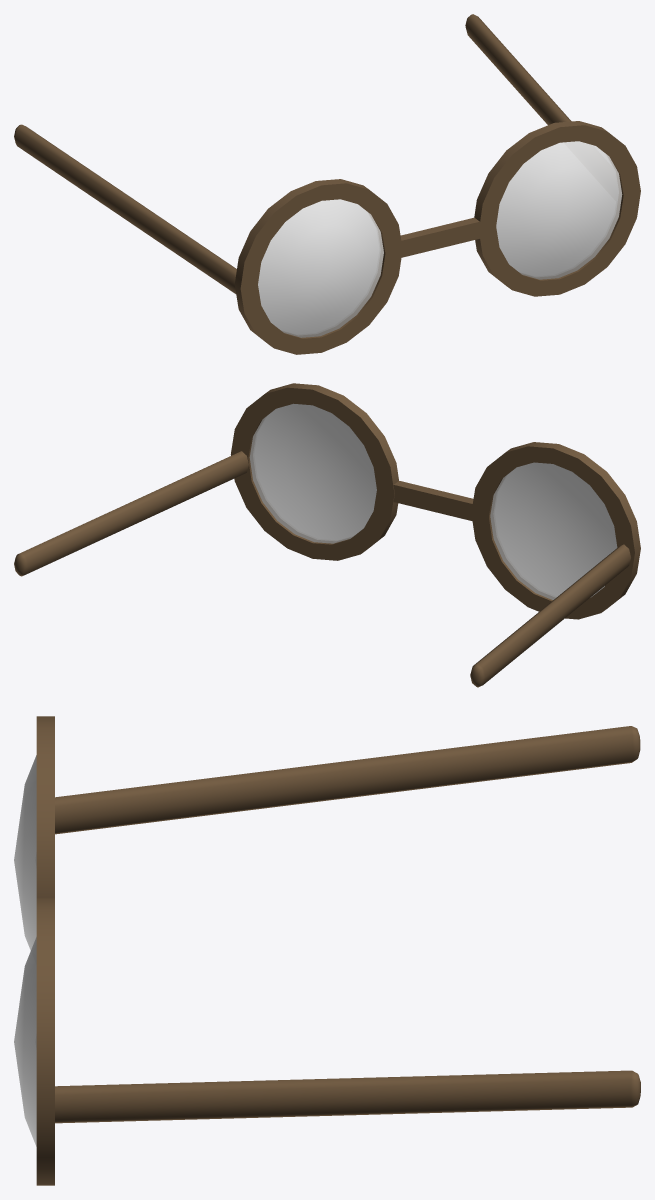
Rendered from Anteater_Glasses_B.glb.
3 views of the same model, one above another, from view 1: azimuth 30°, elevation 25°; view 2: azimuth 150°, elevation 25°; view 3: azimuth 270°, elevation 25° (orthographic). The views are drawn at different scales.
Visible parts, largest first — view 1: Anteater Glasses B; view 2: Anteater Glasses B; view 3: Anteater Glasses B.
Part boxes in pixels (<box>): Anteater Glasses B: <box>14,14,640,354</box>; Anteater Glasses B: <box>14,383,640,687</box>; Anteater Glasses B: <box>14,716,640,1185</box>.
Bounding box in the file's own units: 0.8769 × 0.3015 × 0.6539.
2 materials, 2 textured.
